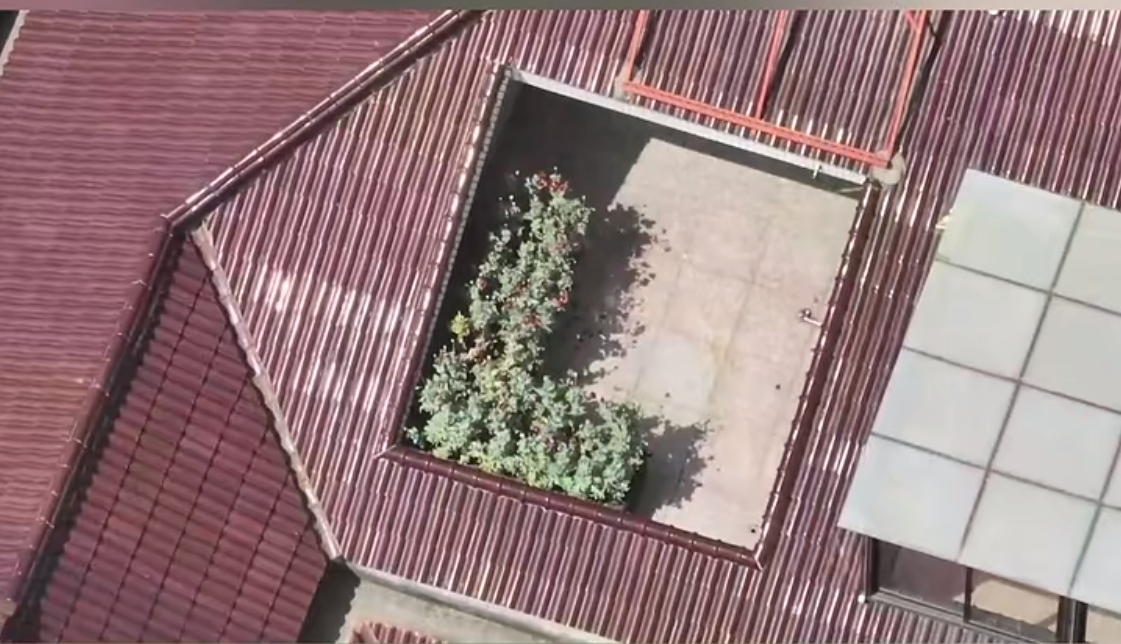Poppy: (413, 168, 657, 509)
